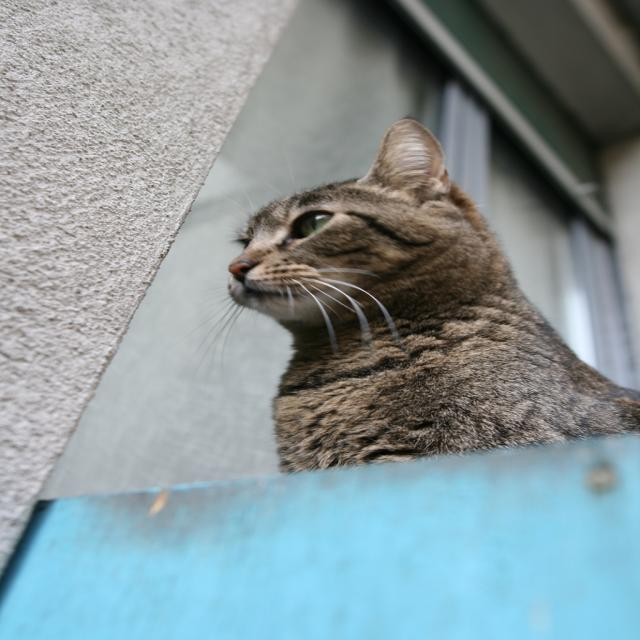Cat: (196, 116, 638, 477)
